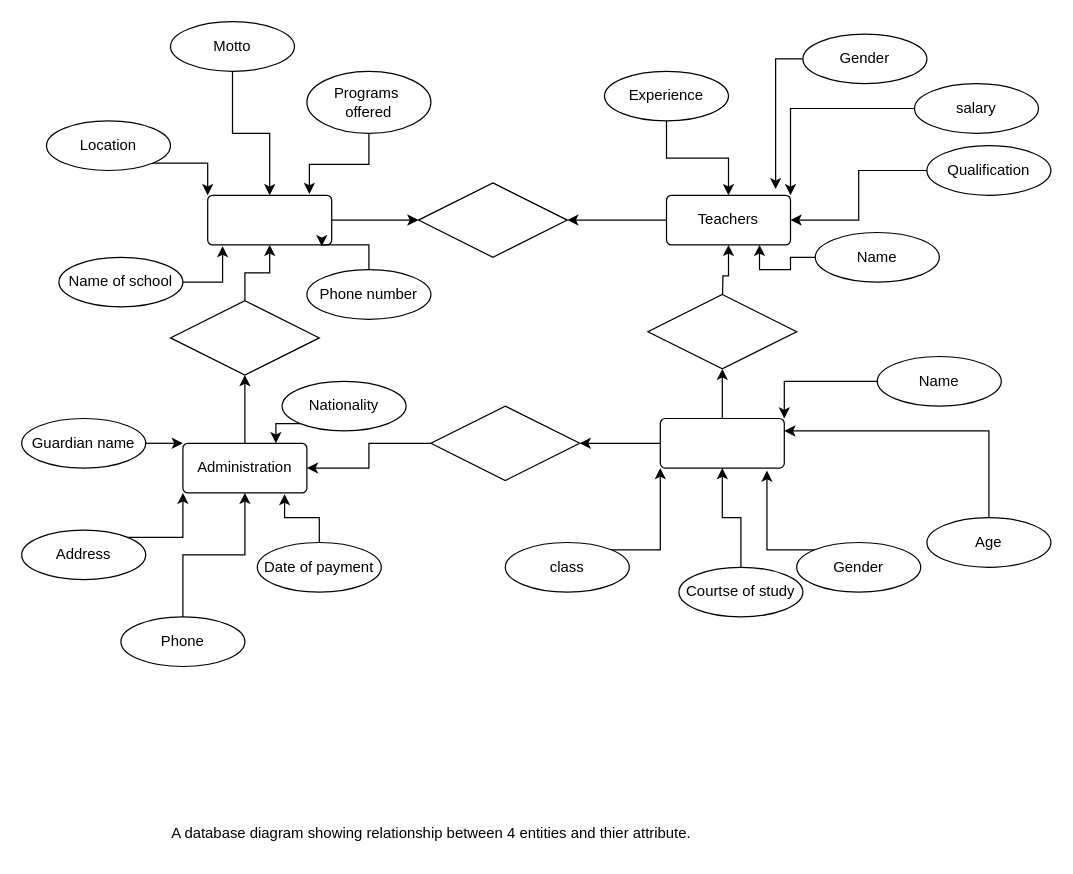
This 1073x874 diagram has some shape labels left out. Each missing label, with the centre of its shape:
Employment: pixel 492 219
Enrollment: pixel 244 337
Payments: pixel 505 442
School: pixel 269 219
Students: pixel 721 442
Teaching/ Learning: pixel 722 331
